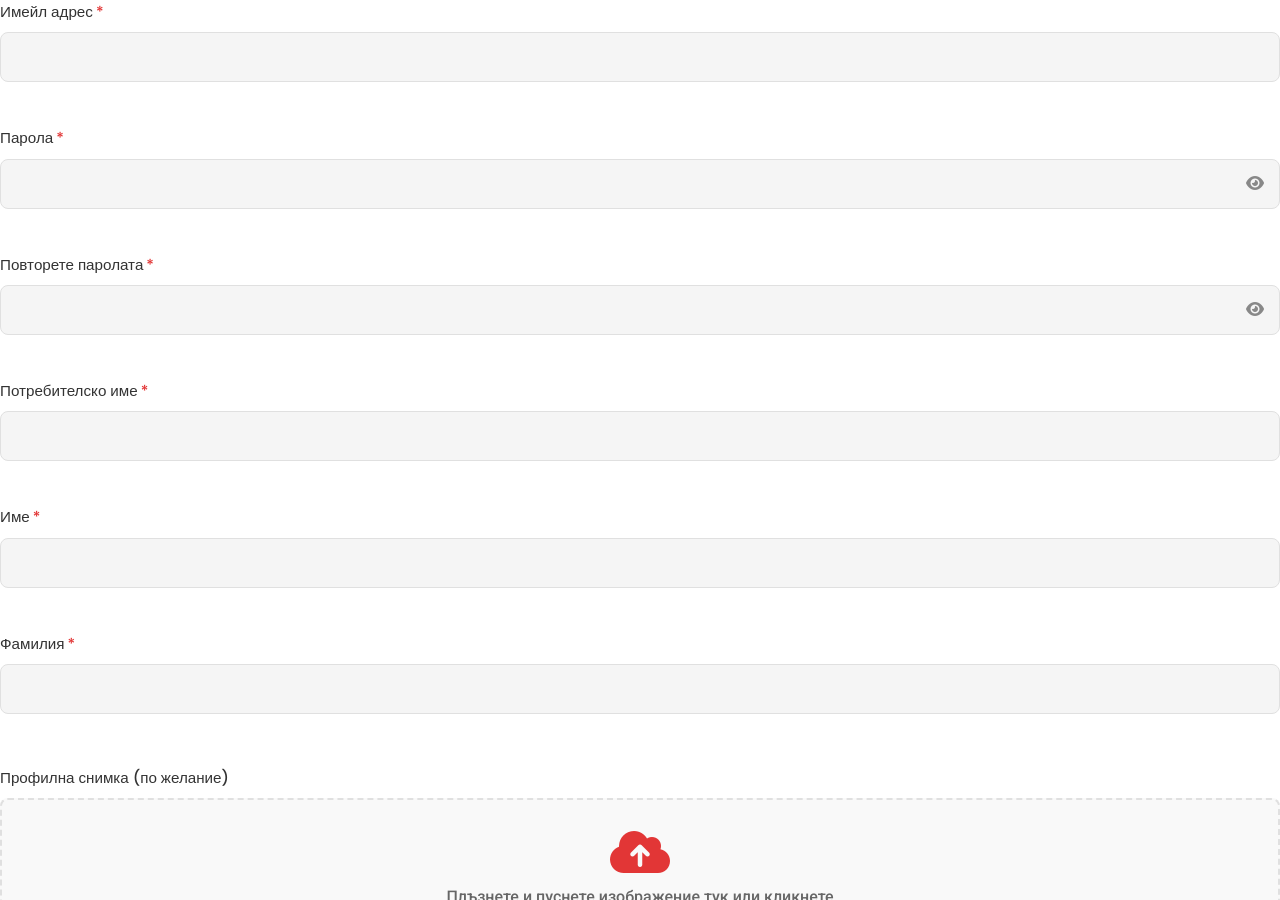
Test case: RegisterForm компонент › показва грешка при неуспешна регистрация
In the field labelled "Имейл адрес*": (640, 57) [0,32,1279,82], type "test@example.com"
In the password field labelled "Парола*": (640, 184) [0,159,1279,209], type "Password123!"
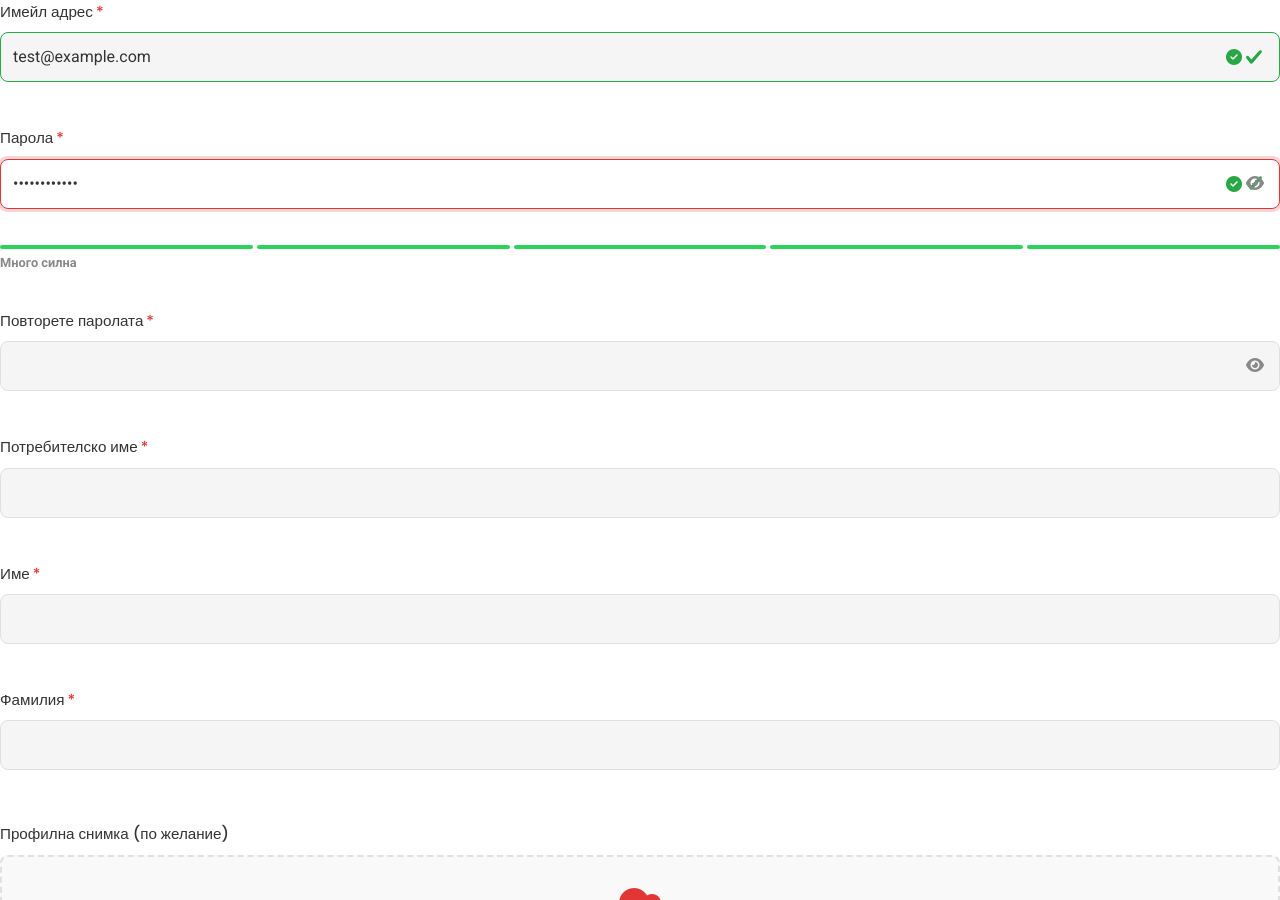
In the password field labelled "Повторете паролата*": (640, 366) [0,341,1279,391], type "Password123!"
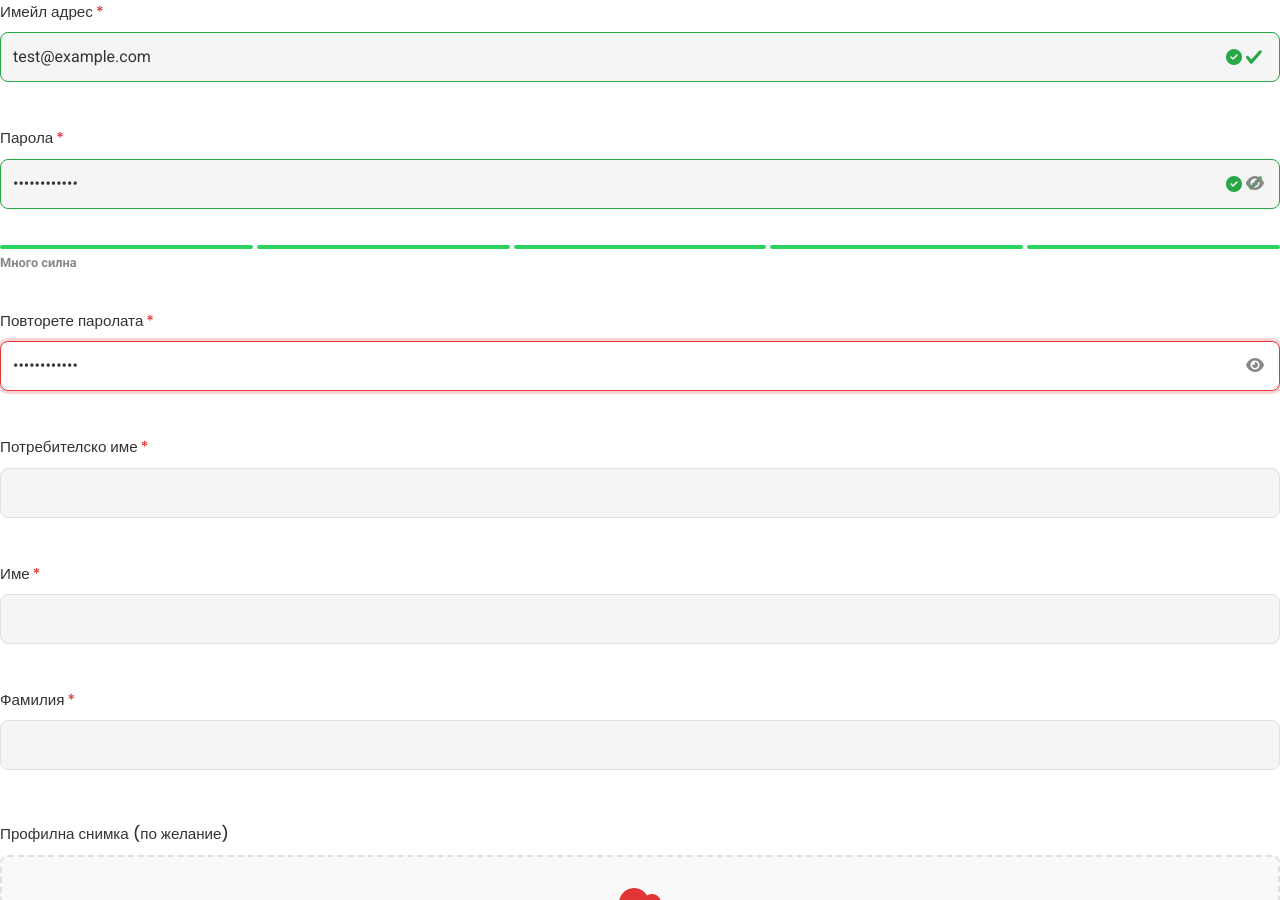
In the field labelled "Потребителско име*": (640, 493) [0,468,1279,518], type "testuser"
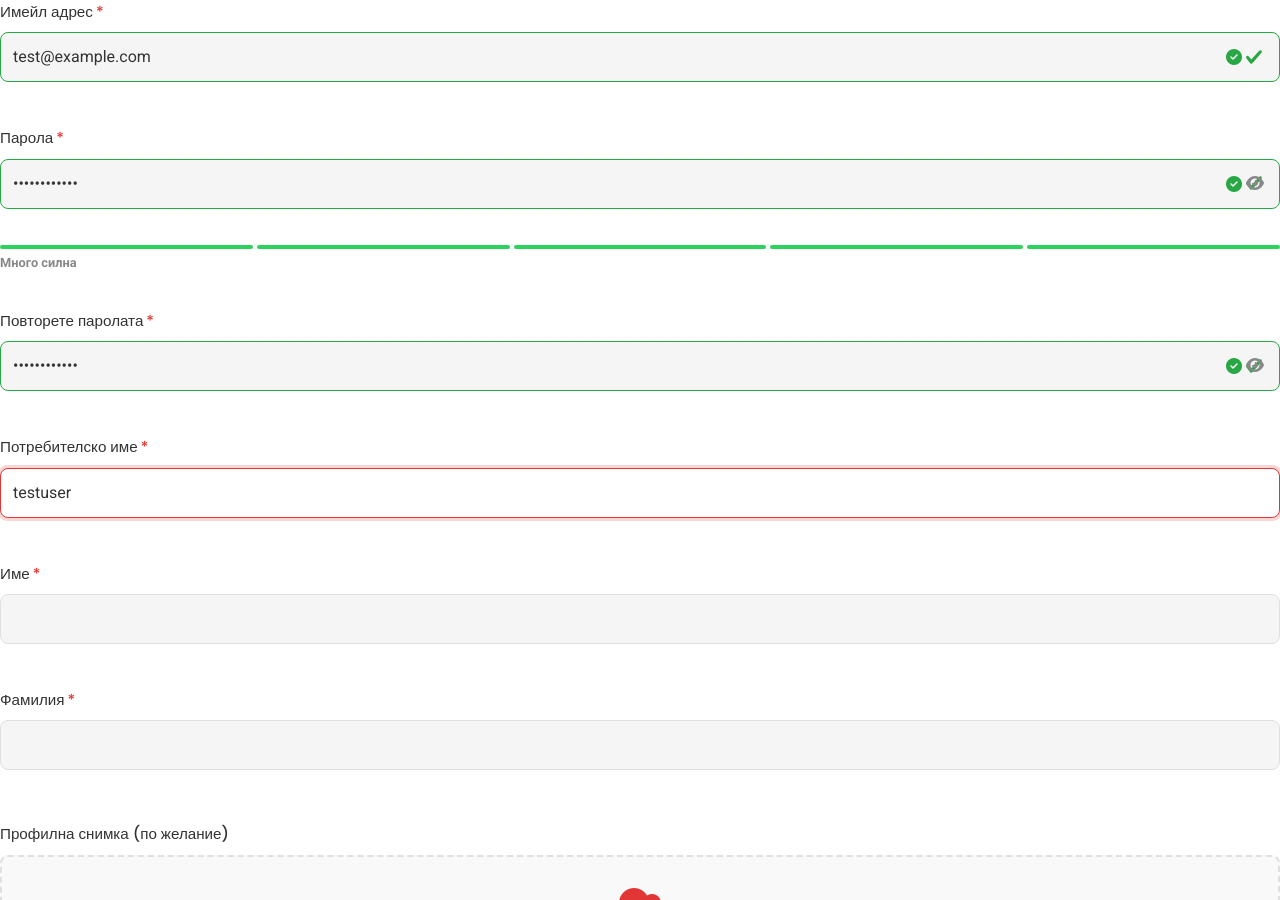
In the field labelled "Име*": (640, 619) [0,594,1279,644], type "Иван"
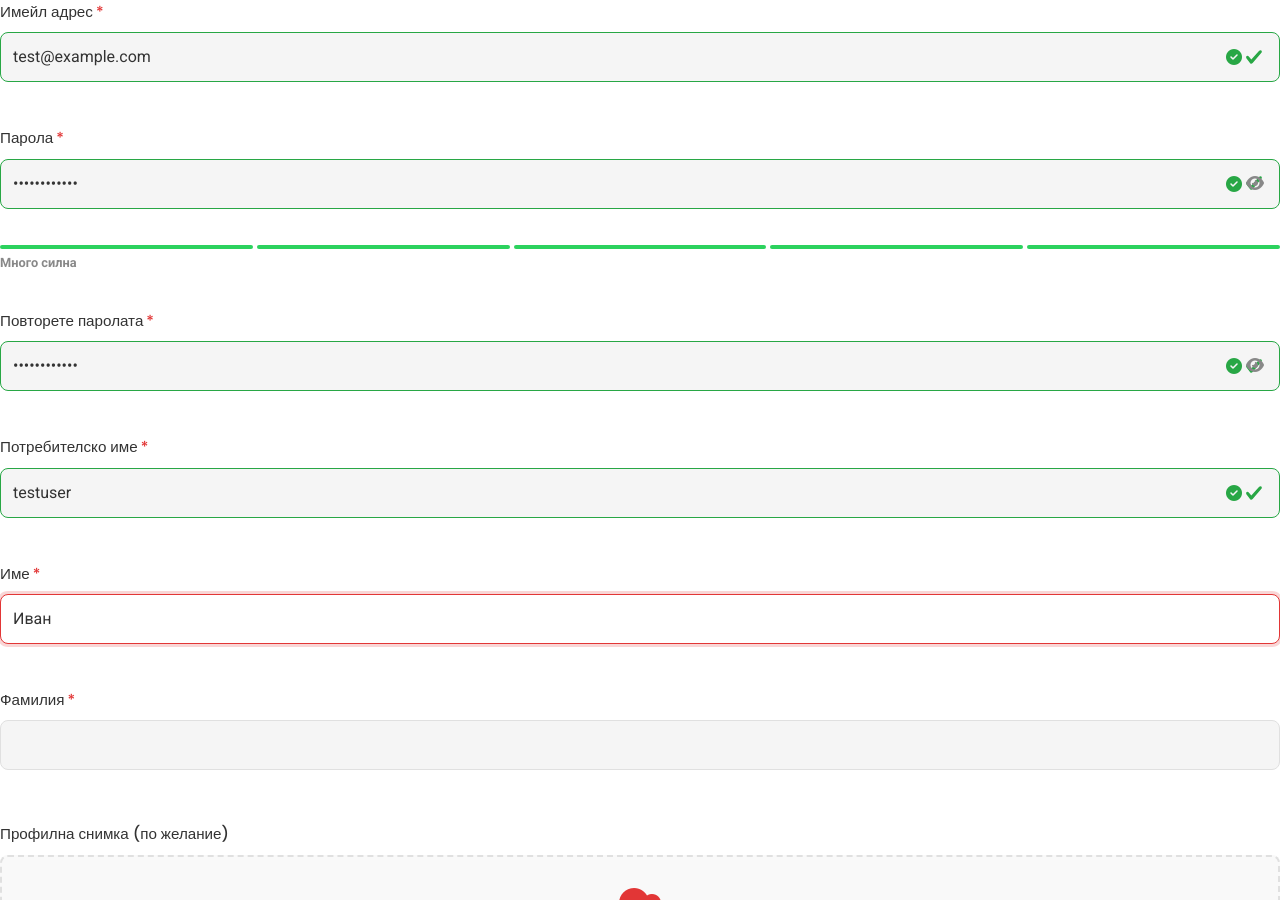
In the field labelled "Фамилия*": (640, 745) [0,720,1279,770], type "Иванов"
(page scrolled)
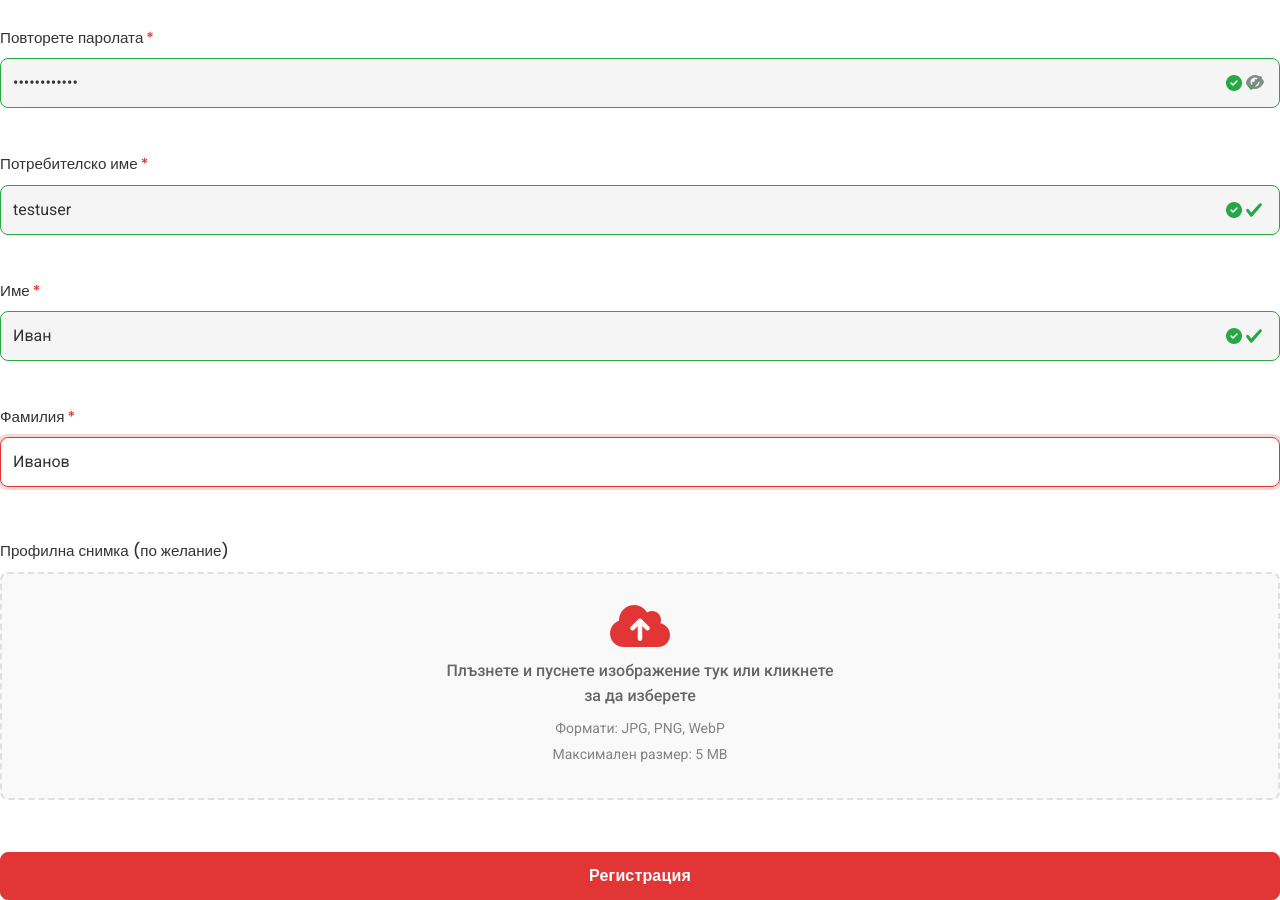
Now the button "Регистрация" is enabled
Click the button "Регистрация": (640, 876) [0,852,1279,899]
(page scrolled)
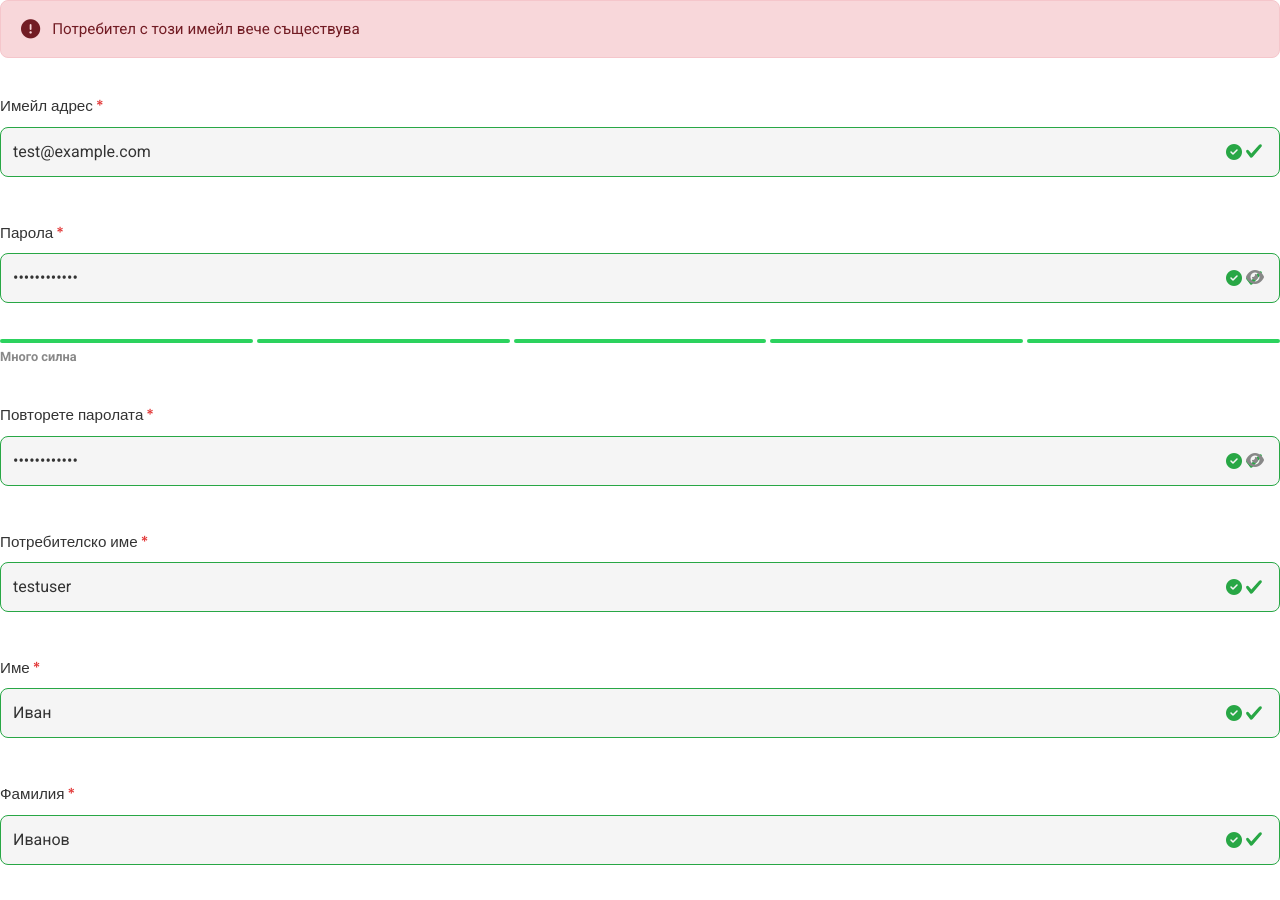
Now the message "Потребител с този имейл вече съществува" is shown, box [0,0,1279,58]
Now the text "Потребител с този имейл вече съществува" is shown, box [52,20,360,38]
